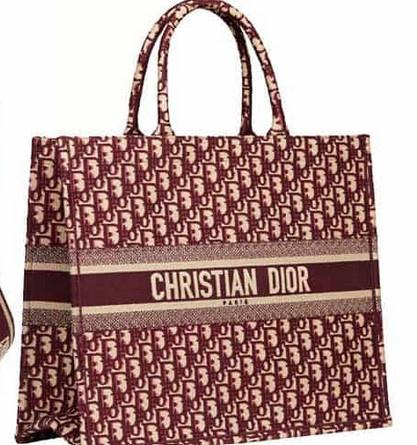DIOR: (133, 248, 327, 312)
